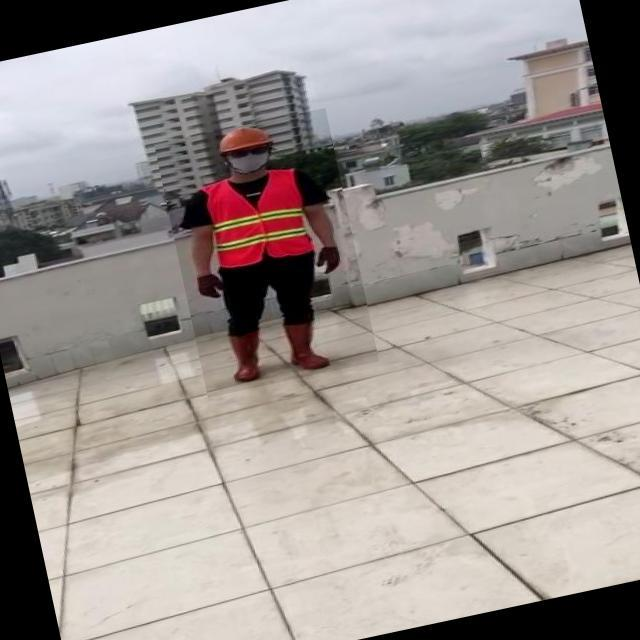Gloves: (191, 272, 230, 305), (313, 247, 345, 277)
Helmet: (210, 124, 277, 157)
Human: (154, 108, 379, 399)
Safety Boot: (277, 318, 331, 376), (224, 332, 267, 386)
Safety Vest: (201, 165, 317, 273)
